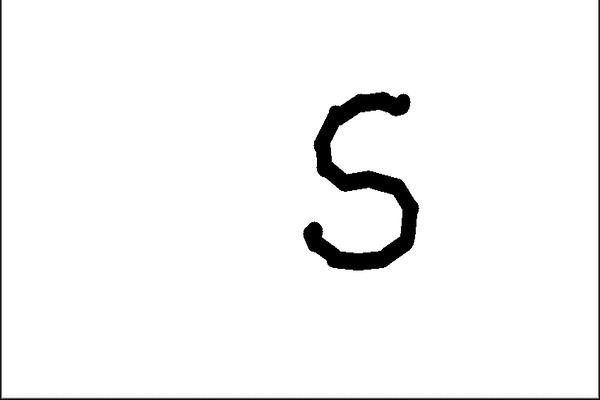S: (295, 80, 428, 274)
